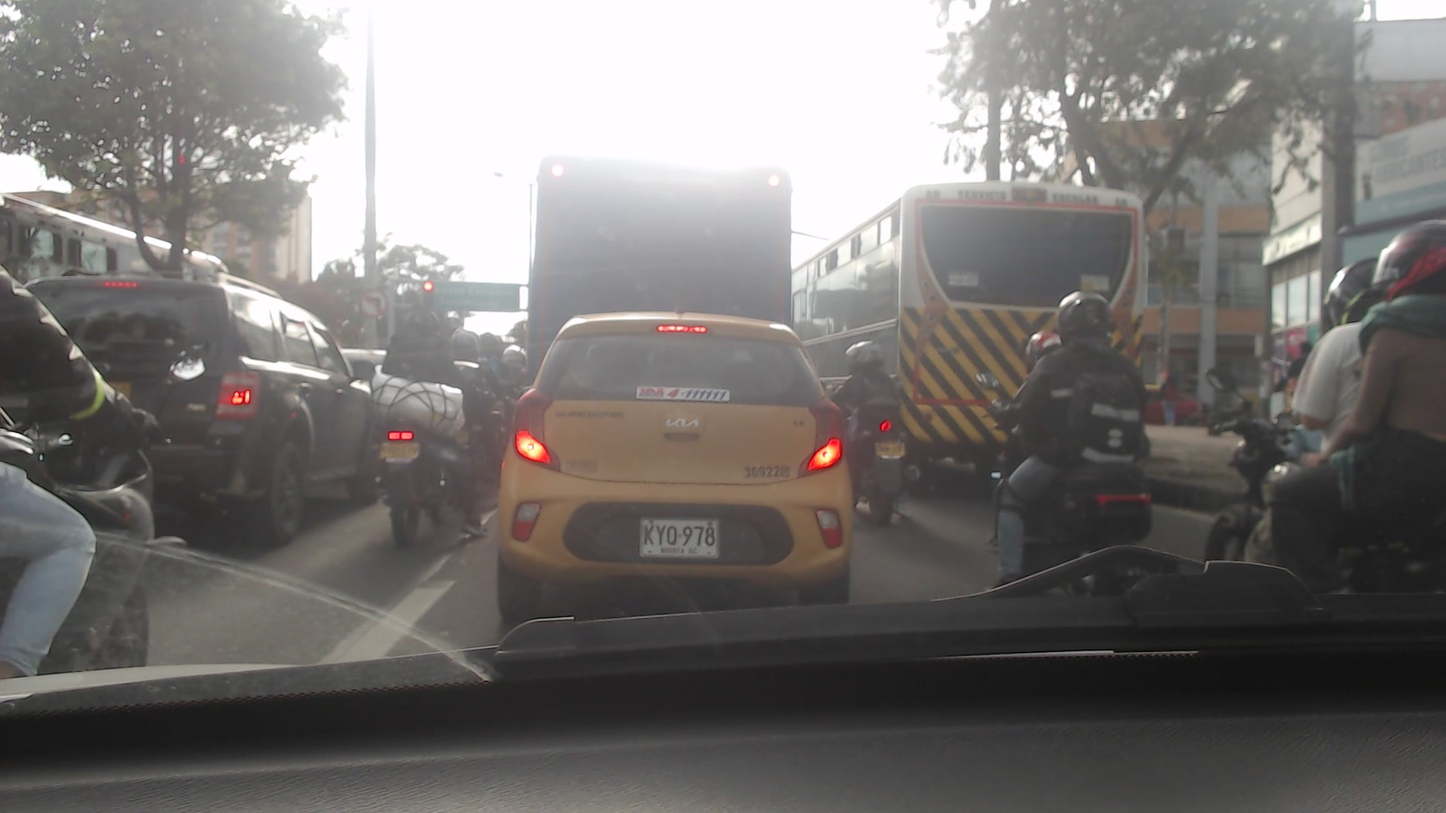bus: (778, 182, 1158, 470)
car: (497, 312, 850, 615), (4, 265, 381, 517)
motorcycle: (969, 472, 1172, 613), (378, 384, 493, 547), (846, 401, 908, 521)
person: (1009, 285, 1156, 484), (1374, 214, 1446, 546), (1276, 262, 1376, 473), (375, 290, 476, 443), (835, 341, 902, 444)
truck: (523, 148, 800, 354)
